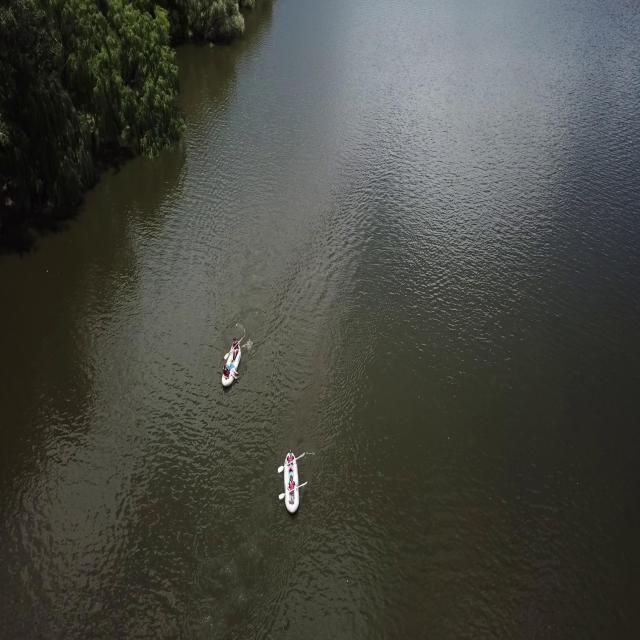kayak: (275, 448, 309, 520), (220, 338, 245, 390)
